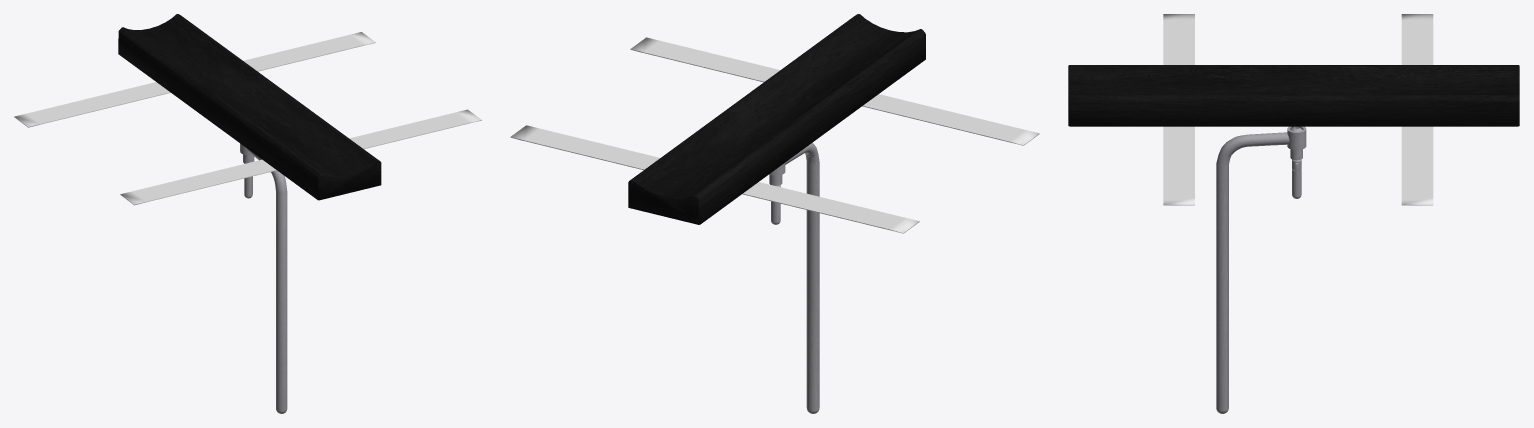
The model's file is arm_board_for_lateral_position.fbx.
The picture shows the model from 3 angles, left to right: view 1: azimuth 30°, elevation 25°; view 2: azimuth 150°, elevation 25°; view 3: azimuth 270°, elevation 25°; orthographic projection. The views are drawn at different scales.
Parts seen in each view (by area): view 1: pad, strap_2, strap_1, mountig_rod; view 2: pad, strap_2, strap_1, mountig_rod; view 3: pad, strap_1, mountig_rod, strap_2.
Part boxes in pixels (left/top/right/bottom): pad: left=118, top=14, right=381, bottom=200; strap_2: left=120, top=109, right=481, bottom=205; strap_1: left=14, top=32, right=375, bottom=127; mountig_rod: left=247, top=148, right=287, bottom=413; pad: left=628, top=14, right=925, bottom=224; strap_2: left=630, top=37, right=1039, bottom=145; strap_1: left=510, top=125, right=919, bottom=233; mountig_rod: left=785, top=143, right=819, bottom=413; pad: left=1068, top=65, right=1519, bottom=126; strap_1: left=1401, top=14, right=1433, bottom=205; mountig_rod: left=1216, top=132, right=1289, bottom=413; strap_2: left=1163, top=14, right=1194, bottom=205.
Bounding box in the file's own units: 0.639 × 0.5203 × 0.639.
Materials: 3 (2 with a texture image).
